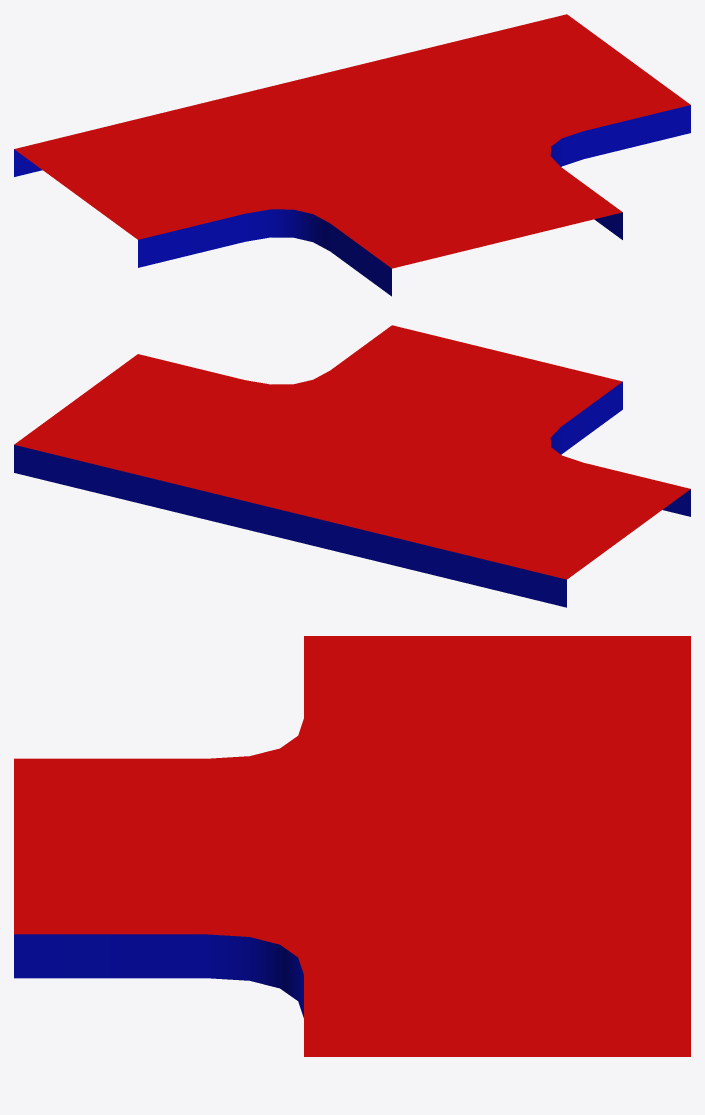
The model's file is T_crossroads01.FBX.
The picture shows the model from 3 angles, top to bottom: view 1: azimuth 30°, elevation 25°; view 2: azimuth 150°, elevation 25°; view 3: azimuth 270°, elevation 25°; orthographic projection. The views are drawn at different scales.
Parts seen in each view (by area): view 1: Box001; view 2: Box001; view 3: Box001.
Boxes of the visible parts, left/top/right/bottom form: Box001: left=14, top=14, right=690, bottom=296; Box001: left=14, top=325, right=690, bottom=607; Box001: left=14, top=636, right=690, bottom=1056.
Size of the model in its own units: 10.3 by 7 by 0.5.
